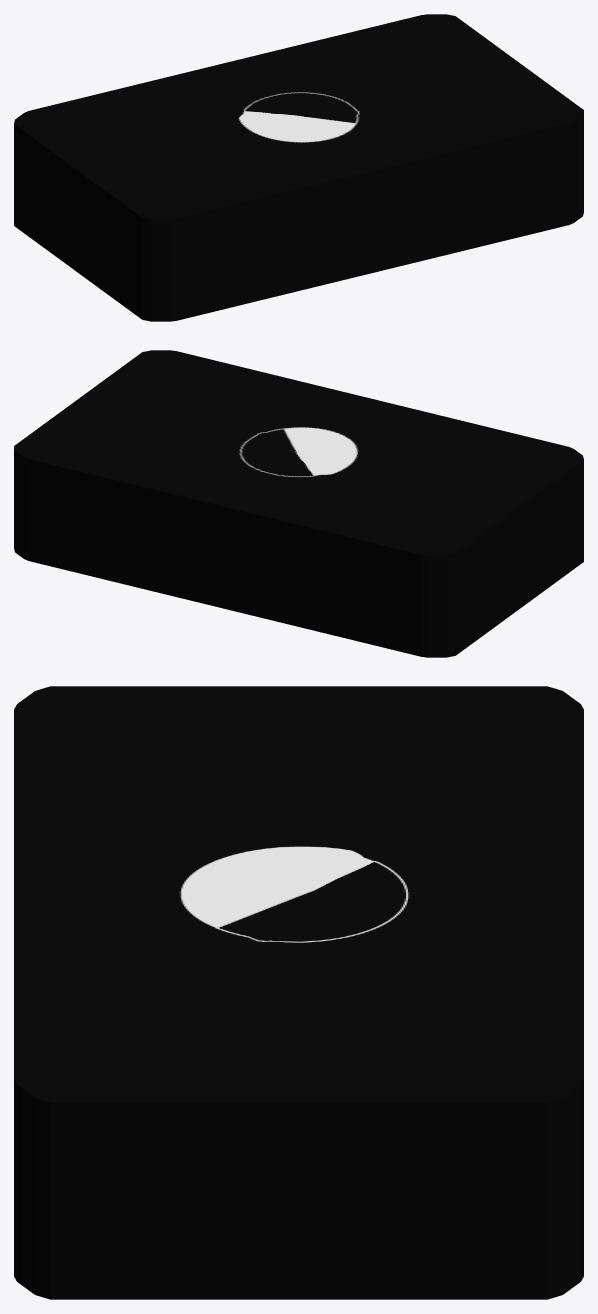
File: deck.obj
3 views of the same model, one above another, from view 1: azimuth 30°, elevation 25°; view 2: azimuth 150°, elevation 25°; view 3: azimuth 270°, elevation 25° (orthographic). The views are drawn at different scales.
Parts seen in each view (by area): view 1: Cube; view 2: Cube; view 3: Cube.
Boxes of the visible parts, x1,y1,x2,y2 form: Cube: (14,14,583,321); Cube: (14,350,583,657); Cube: (14,686,583,1299).
Bounding box in the file's own units: 0.121 × 0.0267 × 0.07.
2 materials, 1 textured.
